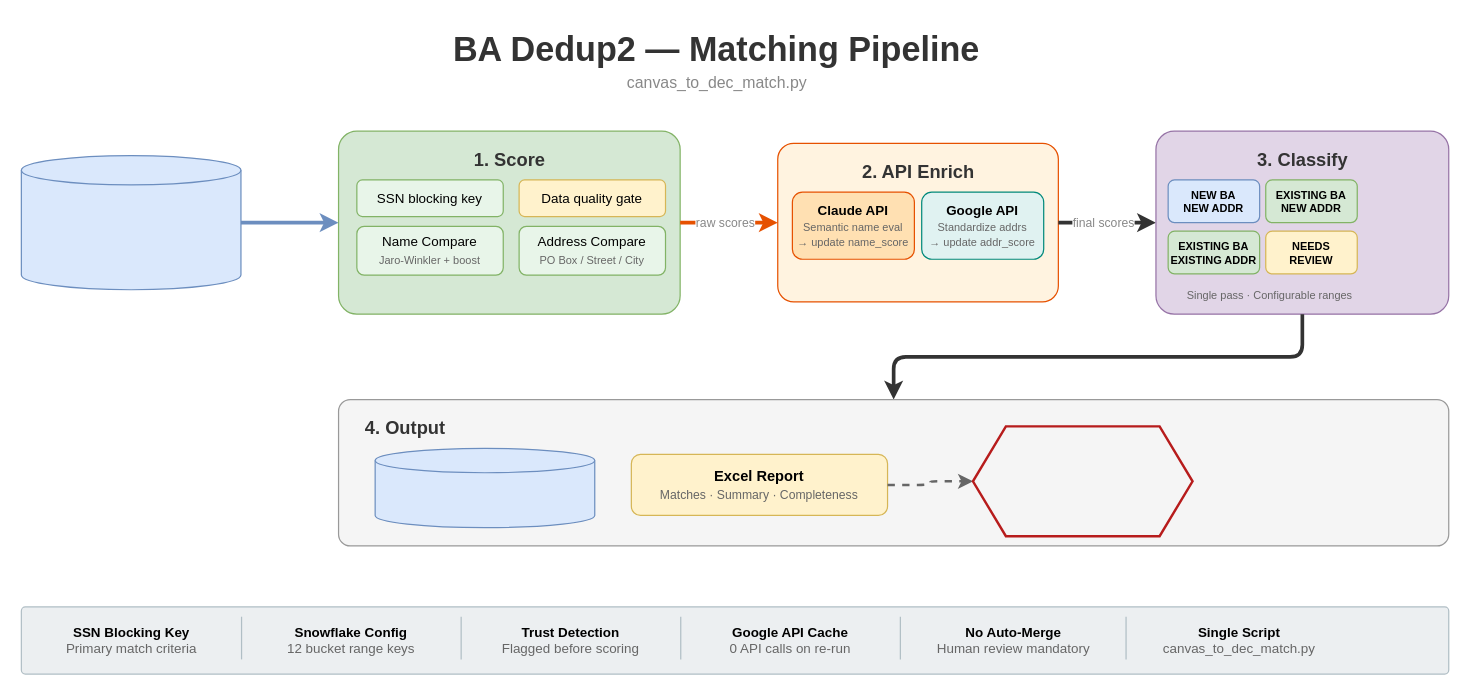
Some shapes in this 1470 by 695 pixel diagram are drawn without their labels. The box of each missing label's shape, as (x1, y1, x2, y2) in pixels:
Human Review No auto-merge. All matches require human approval.: (971, 425, 1193, 537)
Snowflake 31,695 Canvas Records 408K DEC Records Config & Lookups: (20, 154, 241, 290)
Snowflake IMPORT_MERGE_MATCHES 31,695 rows: (374, 447, 595, 528)
